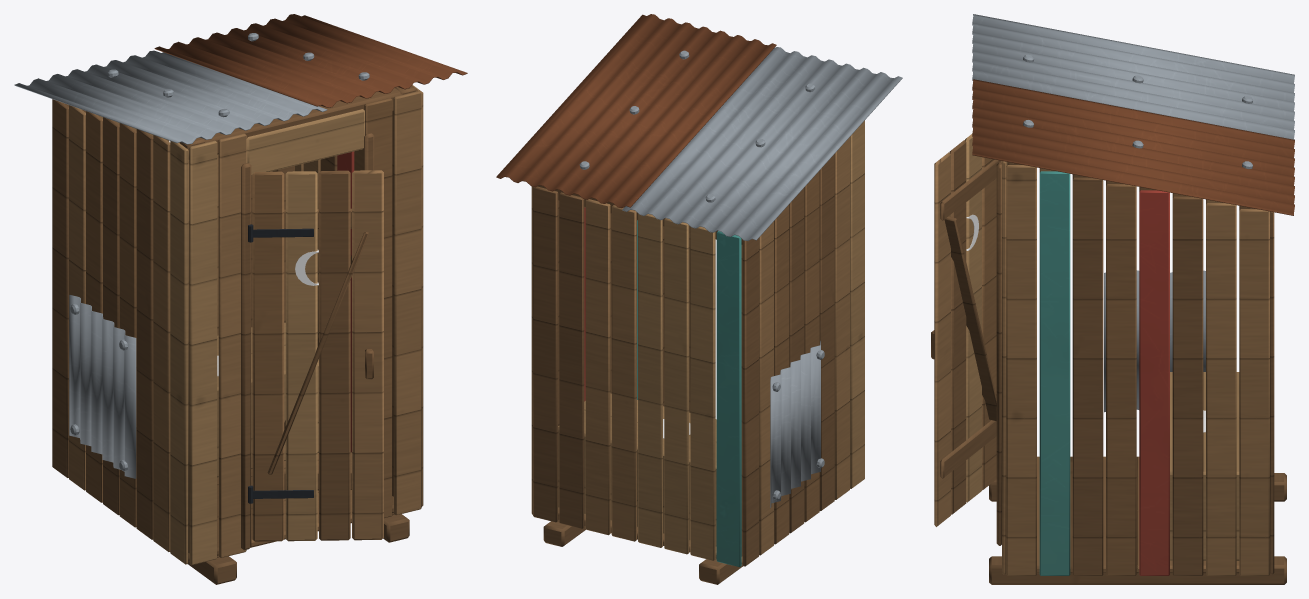
File: outhouse.glb
3 views of the same model, side by side, from view 1: azimuth 30°, elevation 25°; view 2: azimuth 150°, elevation 25°; view 3: azimuth 270°, elevation 25° (orthographic). The views are drawn at different scales.
Parts seen in each view (by area): view 1: outhouse.001; view 2: outhouse.001; view 3: outhouse.001.
Part boxes in pixels (x1,y1,x2,y2): outhouse.001: (14,14,467,584); outhouse.001: (496,14,902,584); outhouse.001: (931,14,1294,584).
Size of the model in its own units: 1.51 by 2.31 by 1.66.
Materials: 17 (17 with a texture image).
